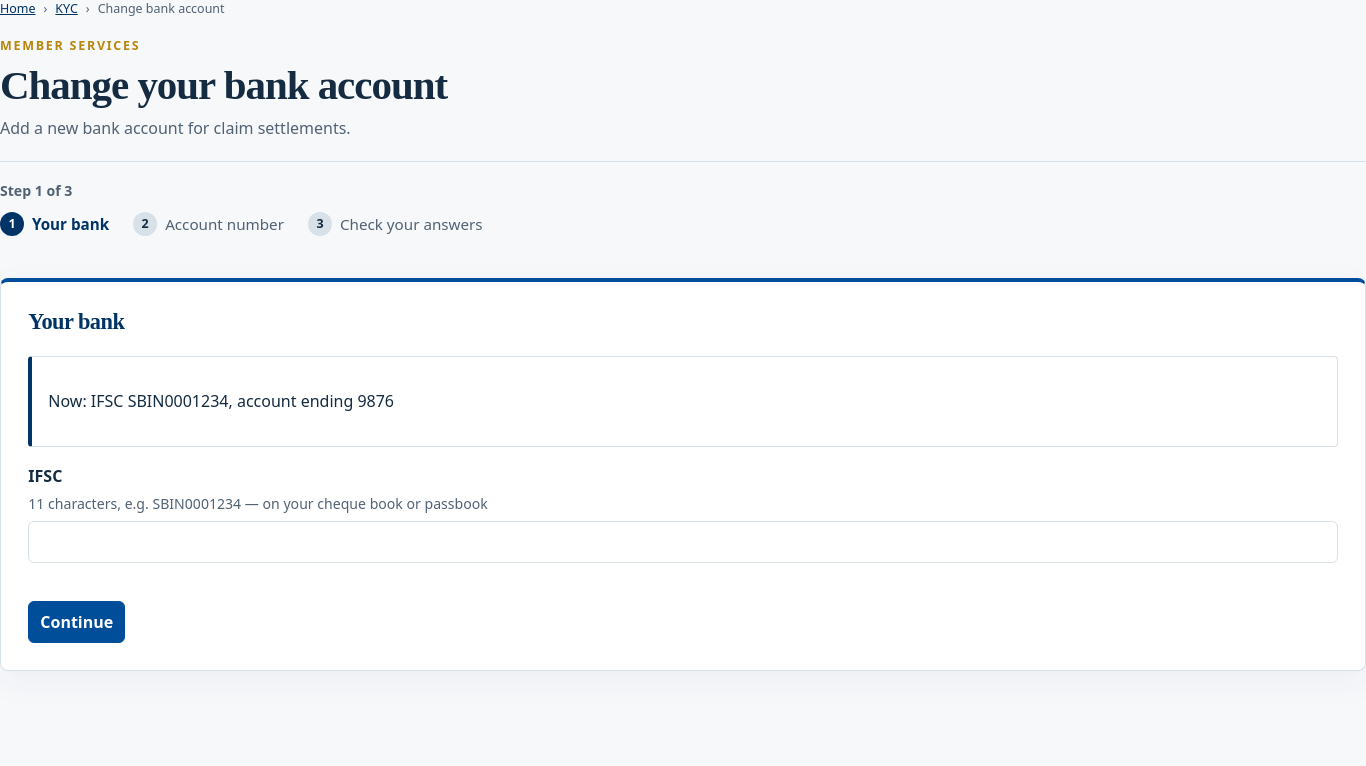
Scenario: P2.28b BankJourneyPage › refuses mismatched account numbers
The image size is (1366, 766).
Complete Step 1 with valid IFSC
Type "SBIN0001234" into the field labelled "IFSC" at (683, 542), box [28,521,1338,563]
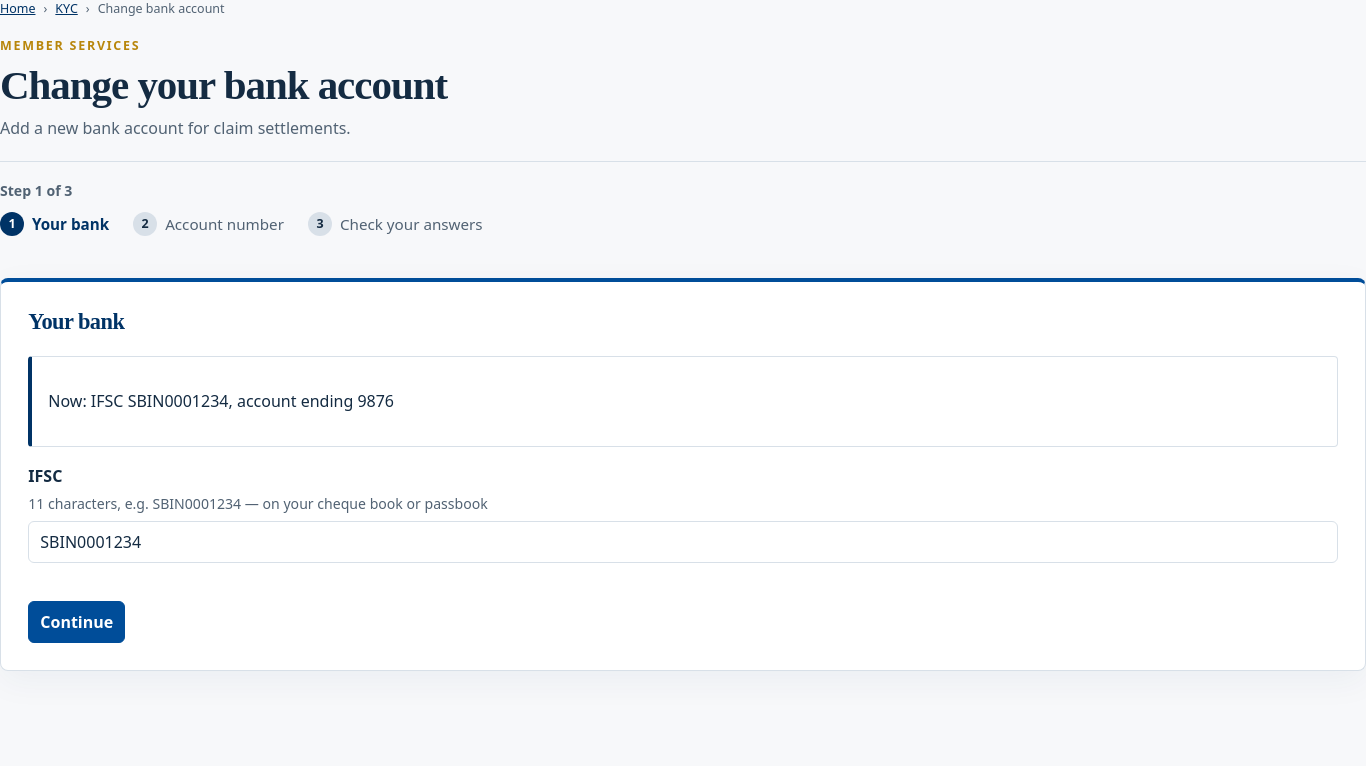
Click the button "Continue" at (77, 622), box [28,601,125,643]
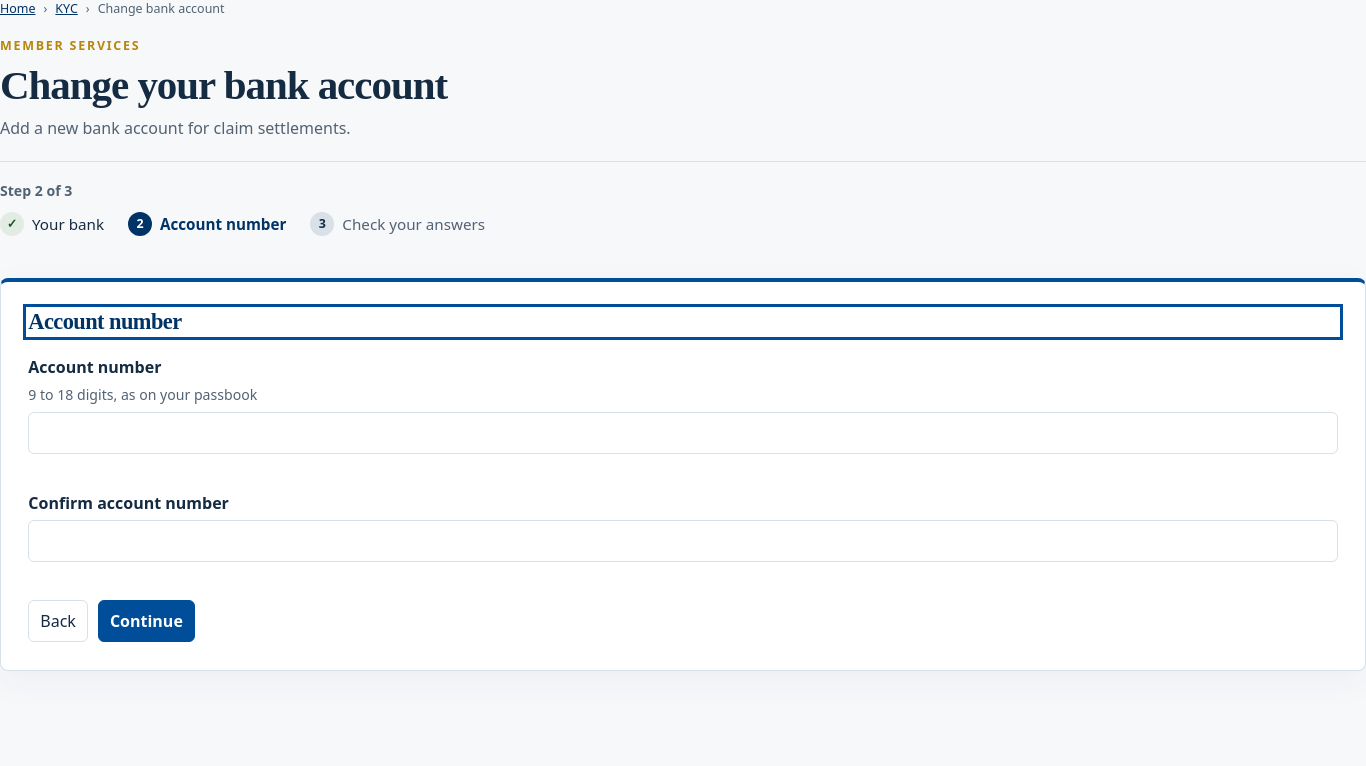
expect the heading "Account number" is shown: met, box [28,309,182,334]
Mismatched account numbers
Type "123456784321" into the field labelled "Account number" at (683, 433), box [28,412,1338,454]
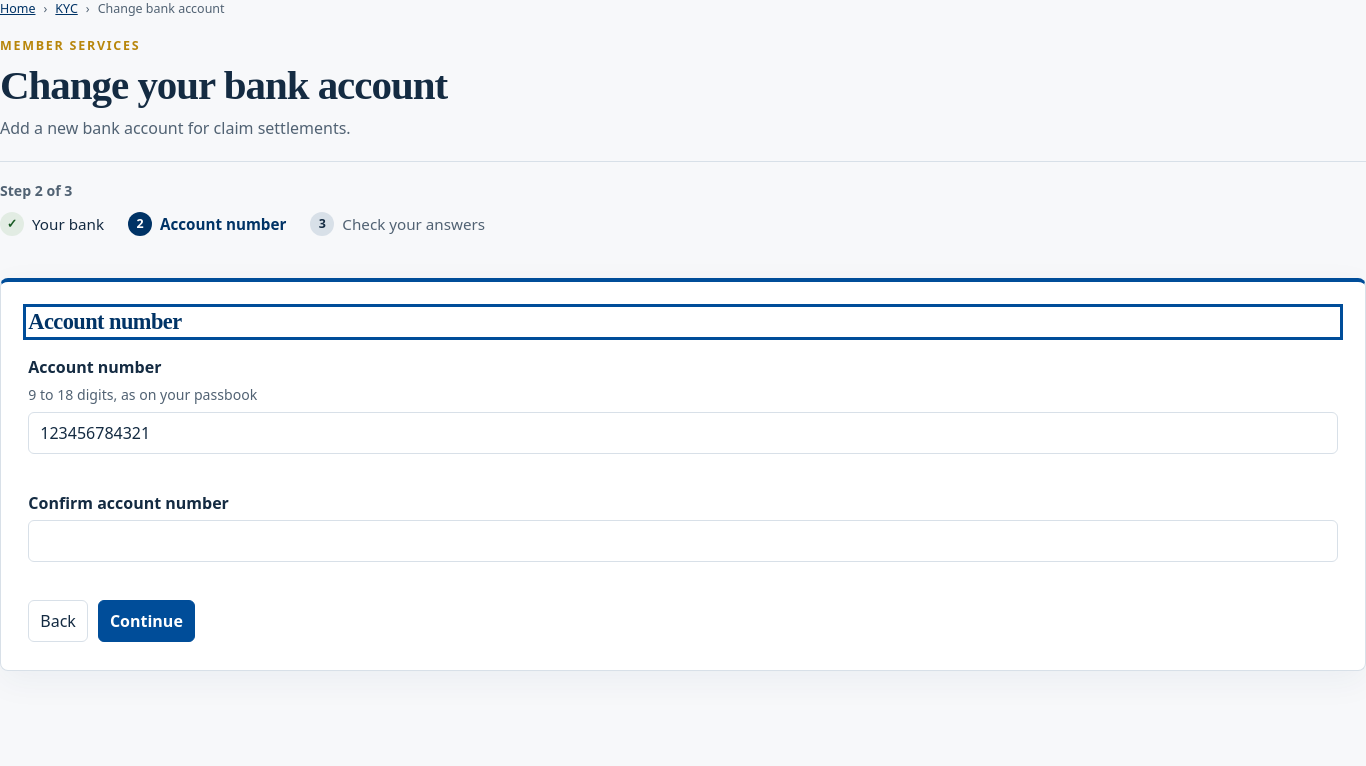
Type "123456789999" into the field labelled "Confirm account number" at (683, 541), box [28,520,1338,562]
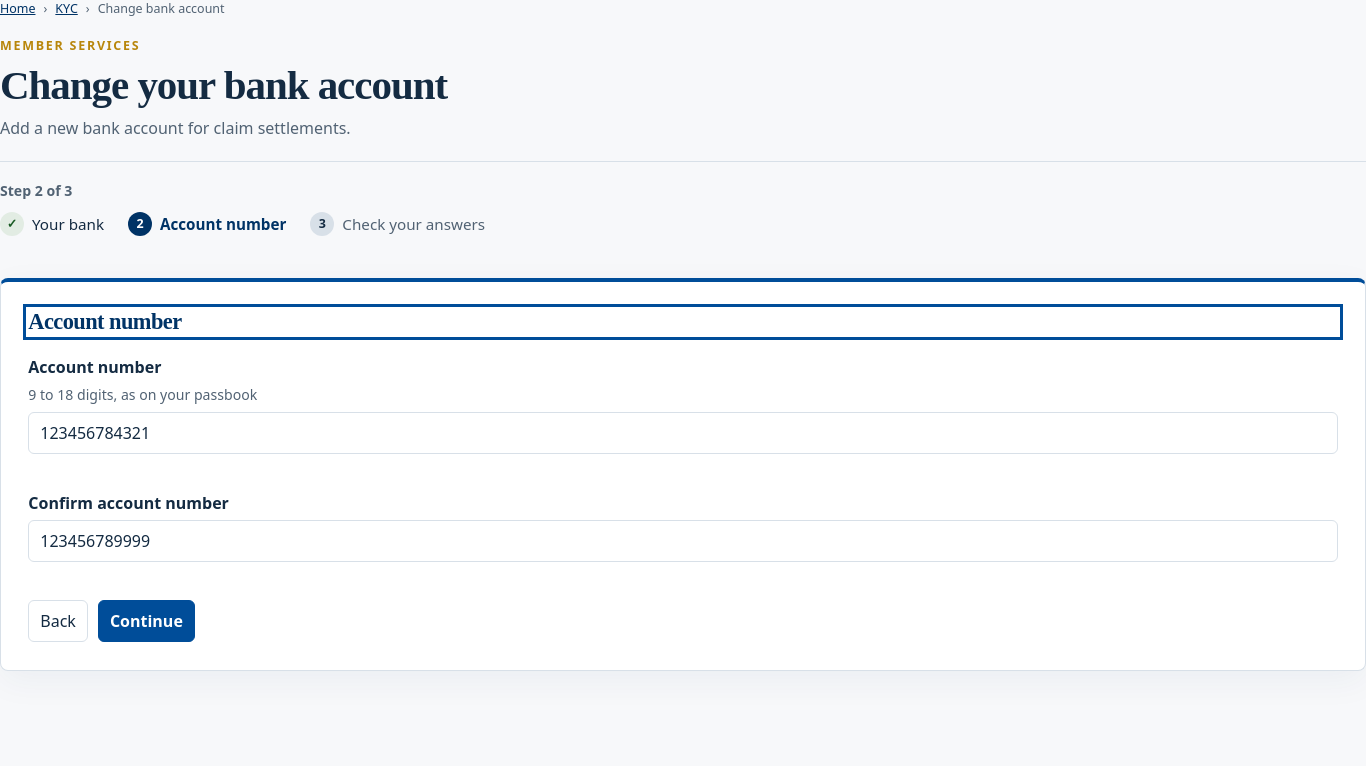
Click the button "Continue" at (146, 621), box [98,600,195,642]
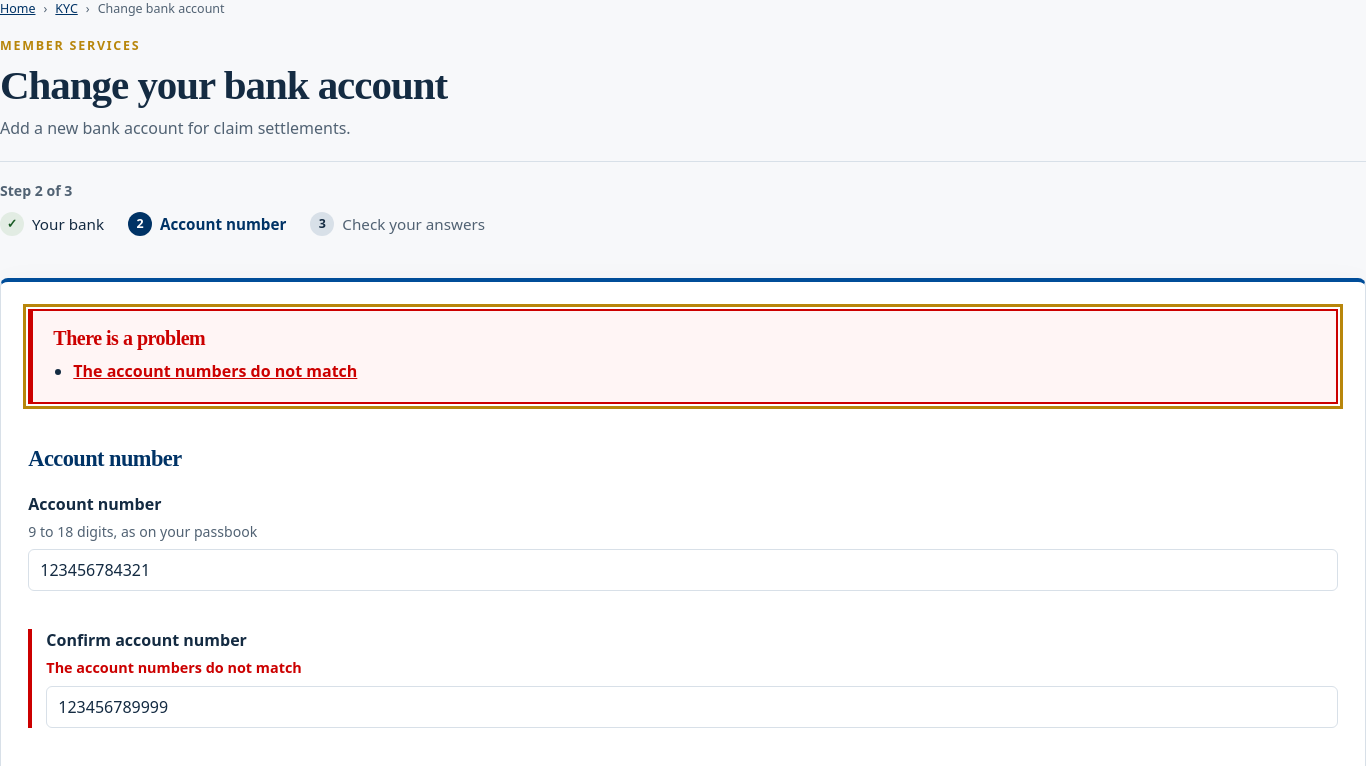
expect the heading "Account number" is shown: met, box [28,446,182,471]
expect the message "There is a problem The account numbers do not match" is shown: met, box [28,309,1338,404]
